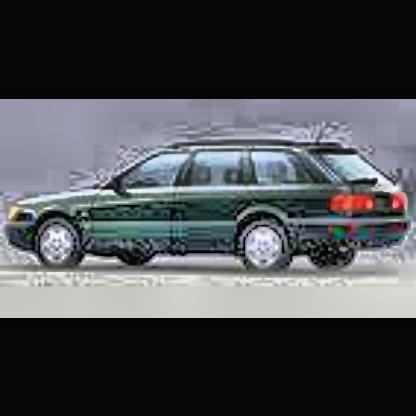Audi 100 Wagon 1994: (4, 125, 414, 283)
